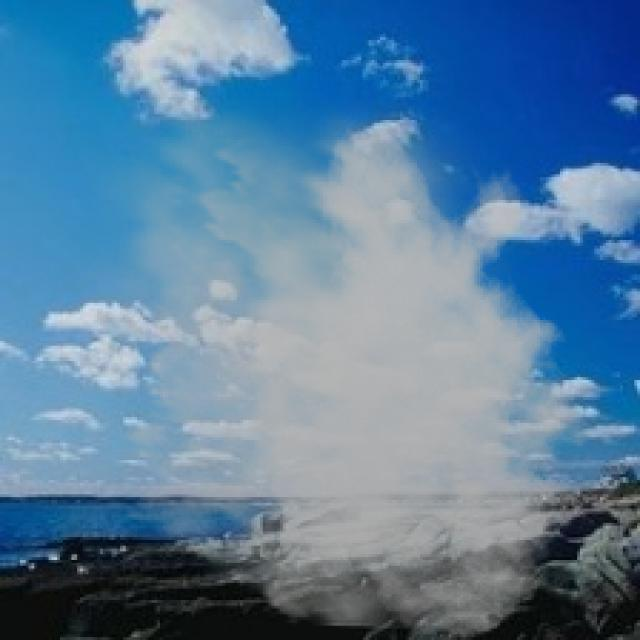smoke: (60, 77, 617, 637)
